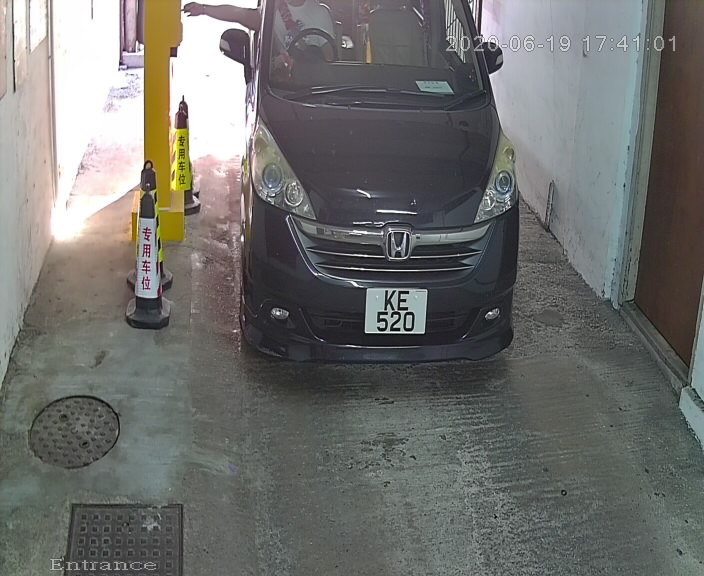privatecar: (209, 3, 530, 379)
